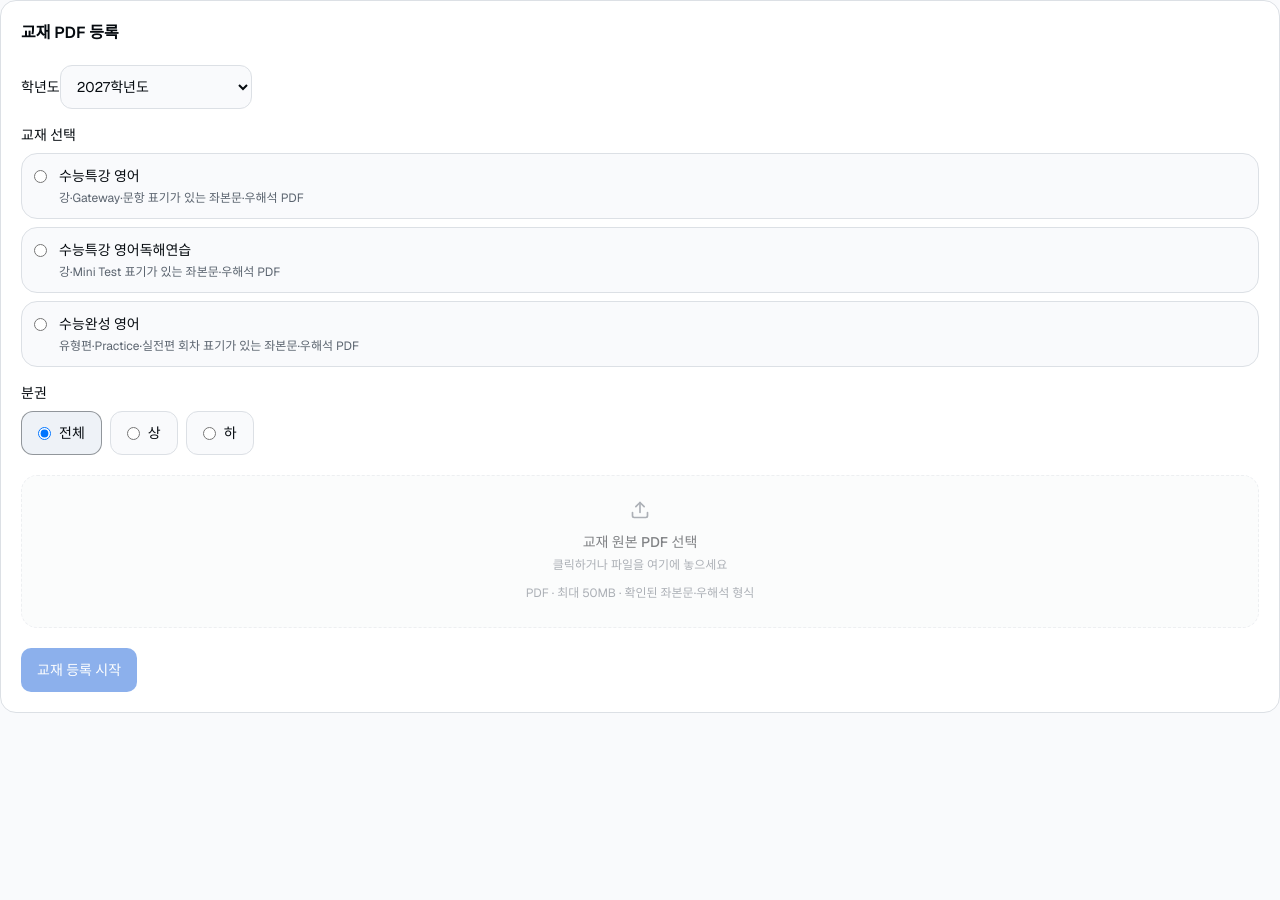
unified registration UI › enables verified reading and Suwan PDF selection with compatible volume choices
Step 1. Click the radio button labelled "수능특강 영어독해연습 강·Mini Test 표기가 있는 좌본문·우해석 PDF" → (40, 250), box [34,244,47,257]
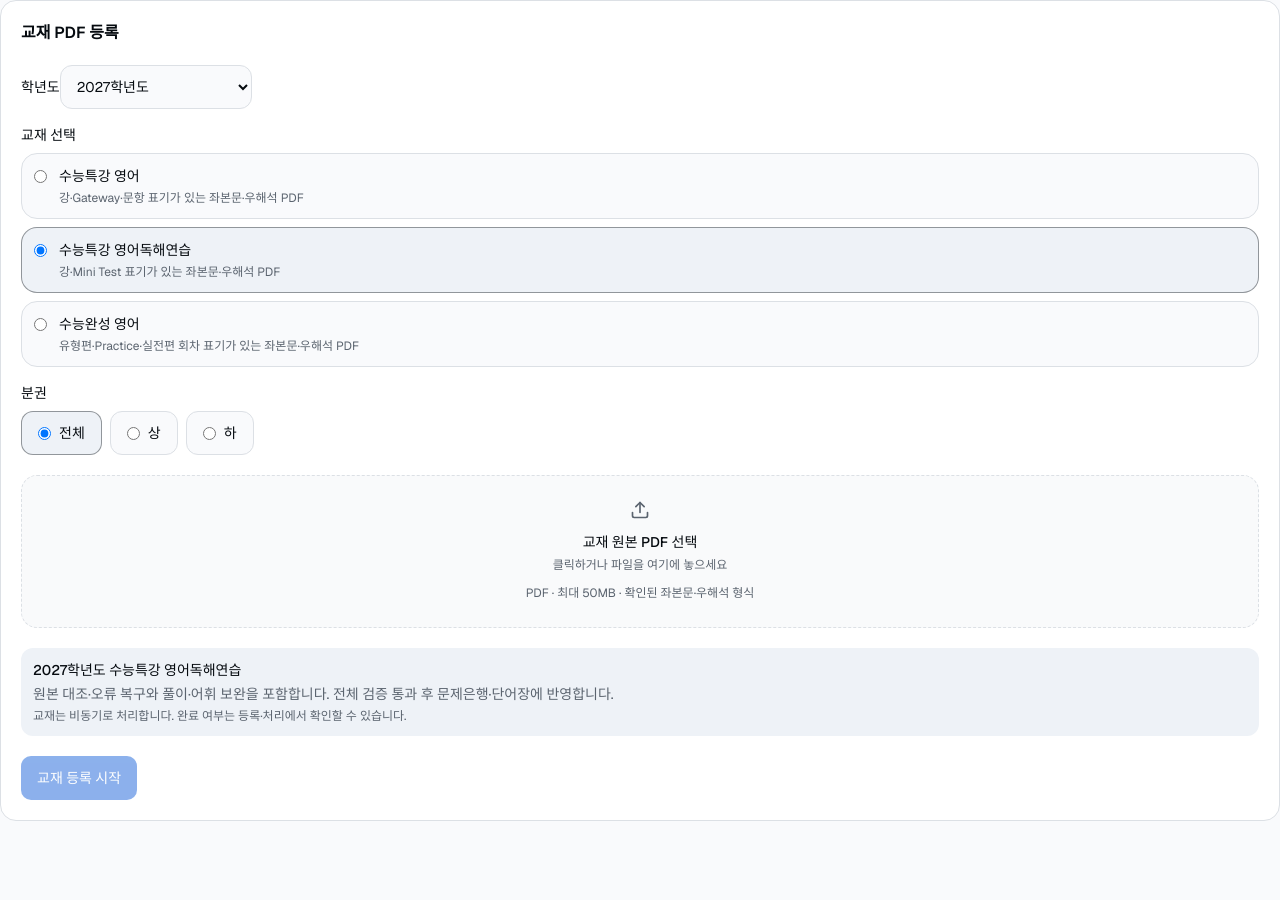
Expected: the button "교재 등록 시작" is disabled, [21,756,137,800]
Expected: the button "교재 원본 PDF 선택" is enabled, [21,475,1259,628]
Step 2. Click the radio button labelled "상" → (133, 433), box [127,426,140,440]
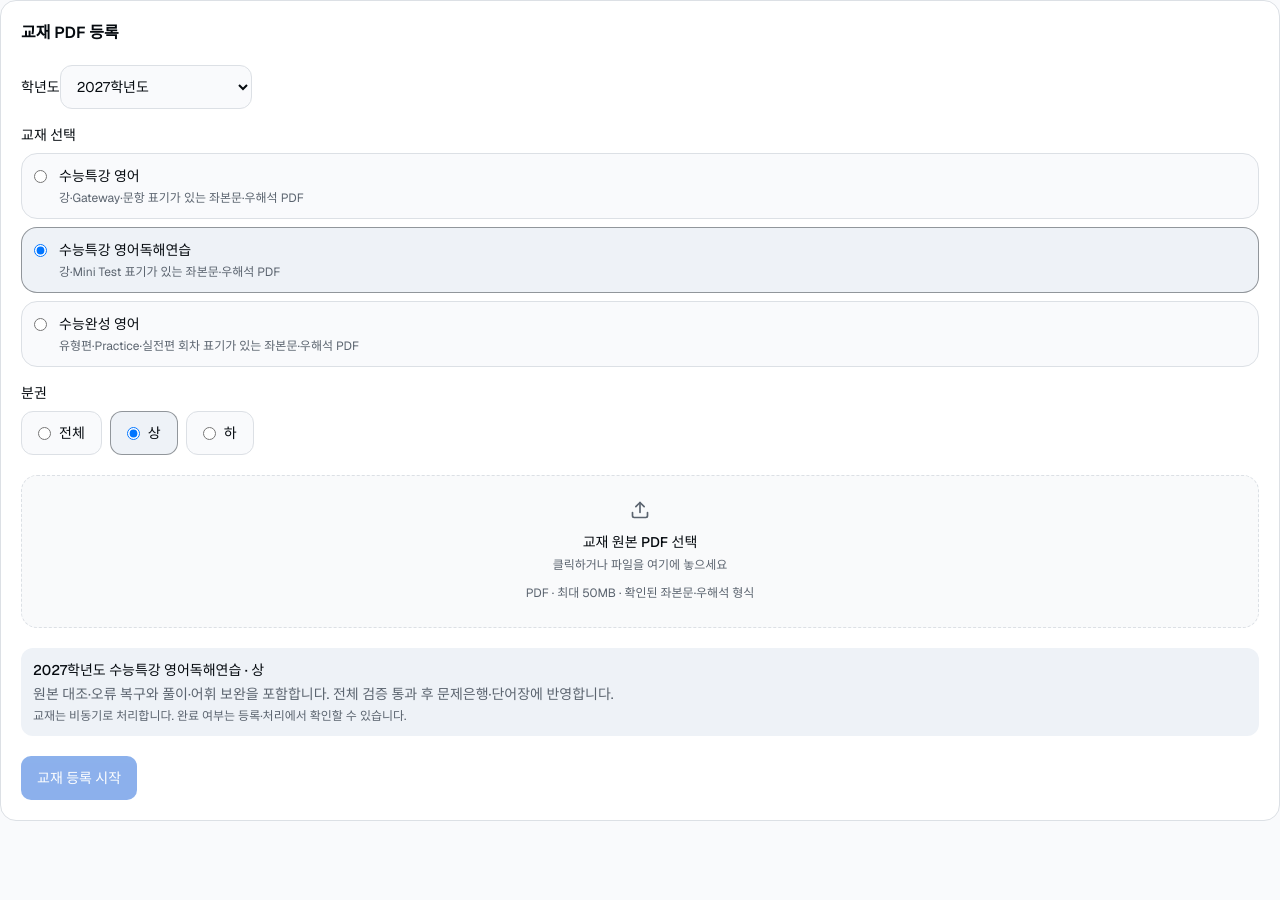
Step 3. Click the radio button labelled "수능완성 영어 유형편·Practice·실전편 회차 표기가 있는 좌본문·우해석 PDF" → (40, 324), box [34,318,47,331]
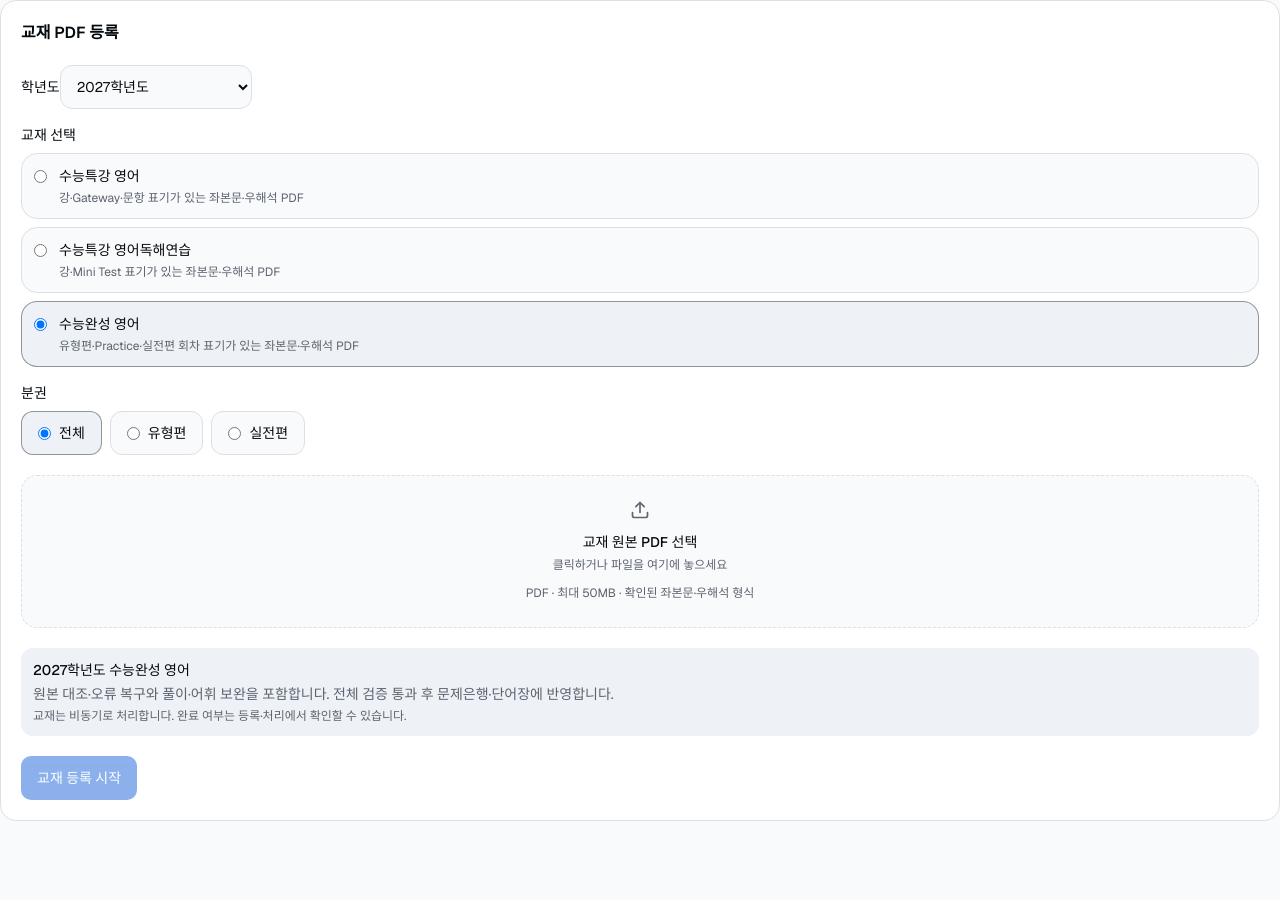
Expected: the radio button labelled "전체" is checked, [38,426,51,440]
Expected: the label "상" is gone
Step 4. Click the radio button labelled "실전편" → (235, 433), box [228,426,241,440]
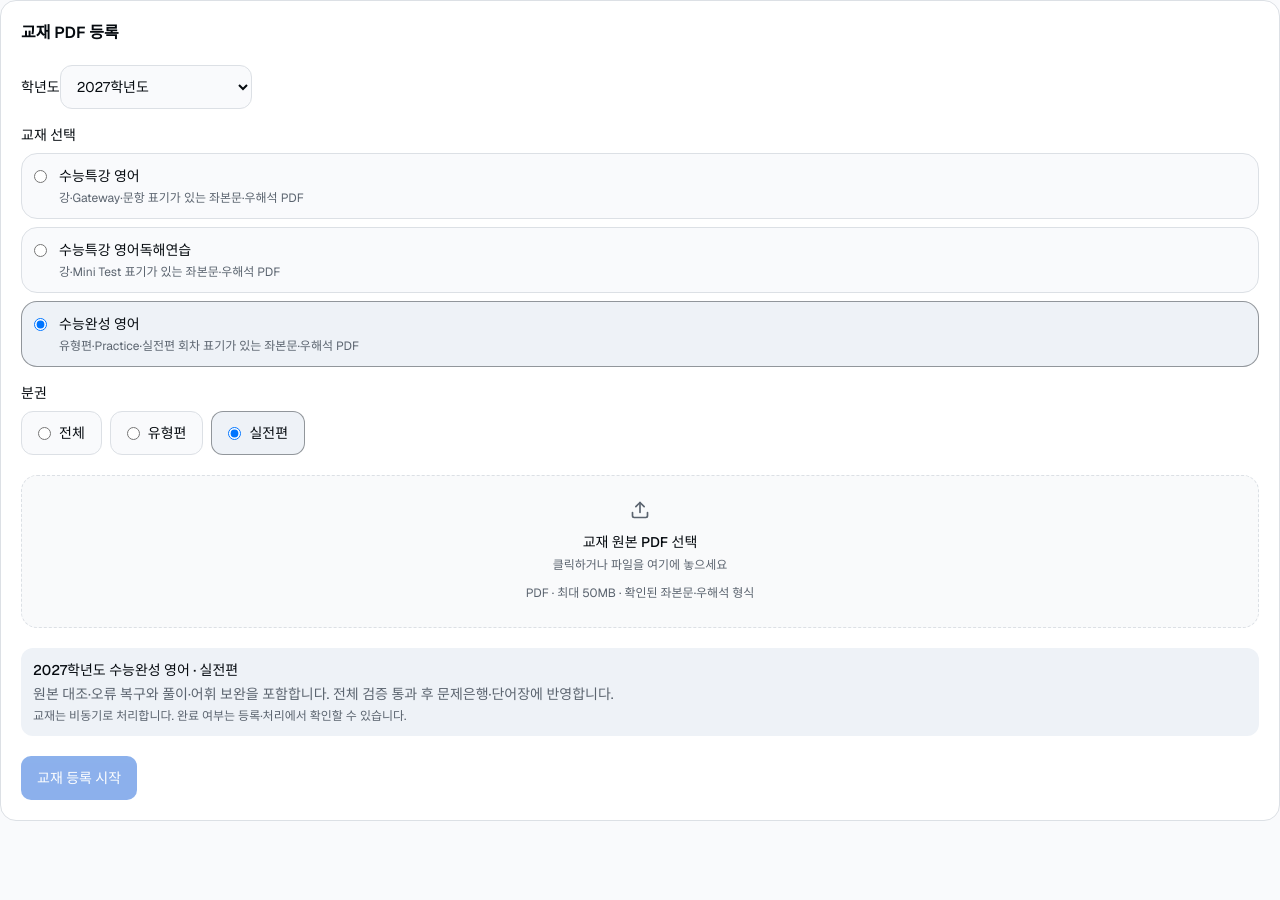
Expected: the radio button labelled "실전편" is checked, [228,426,241,440]
Expected: the text "2027학년도 수능완성 영어 · 실전편" is shown, [33,661,238,679]
